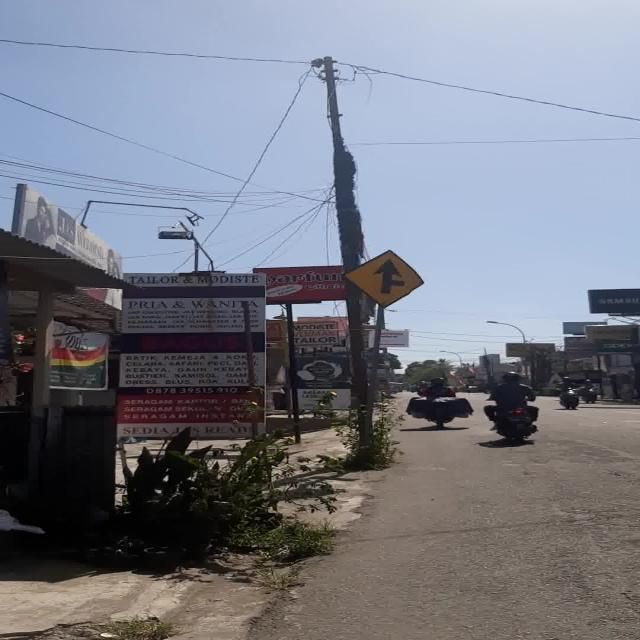Persimpangan 3 Prioritas Kanan: (343, 250, 424, 308)
